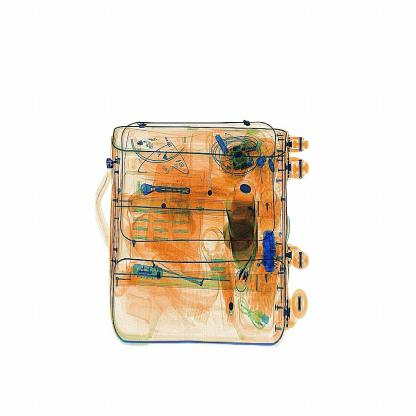scissors: (257, 226, 282, 278)
